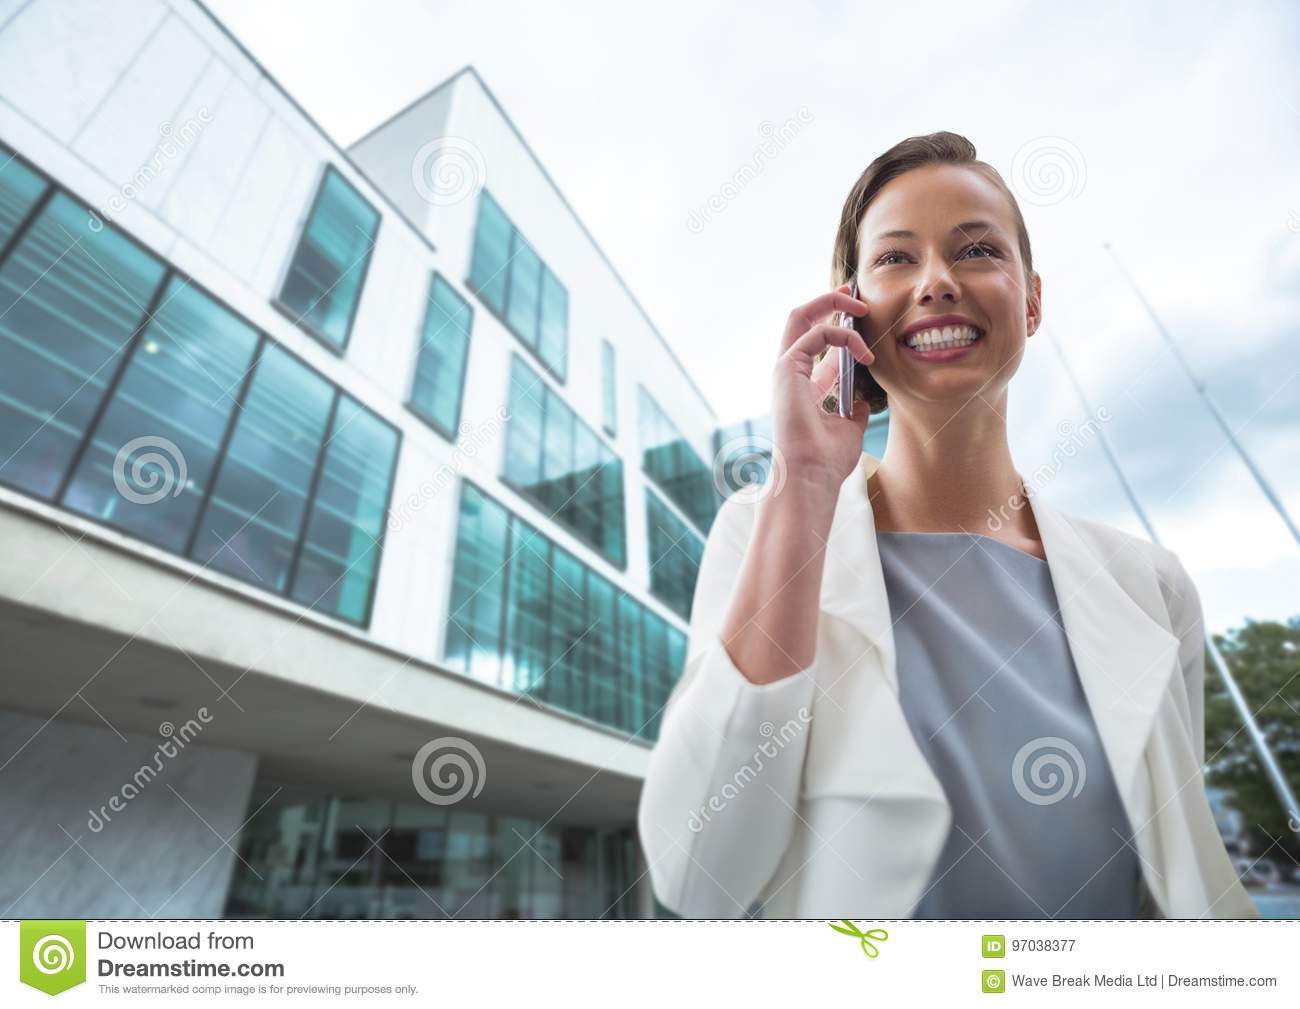phone: (841, 269, 866, 423)
talk: (765, 211, 1014, 484)
